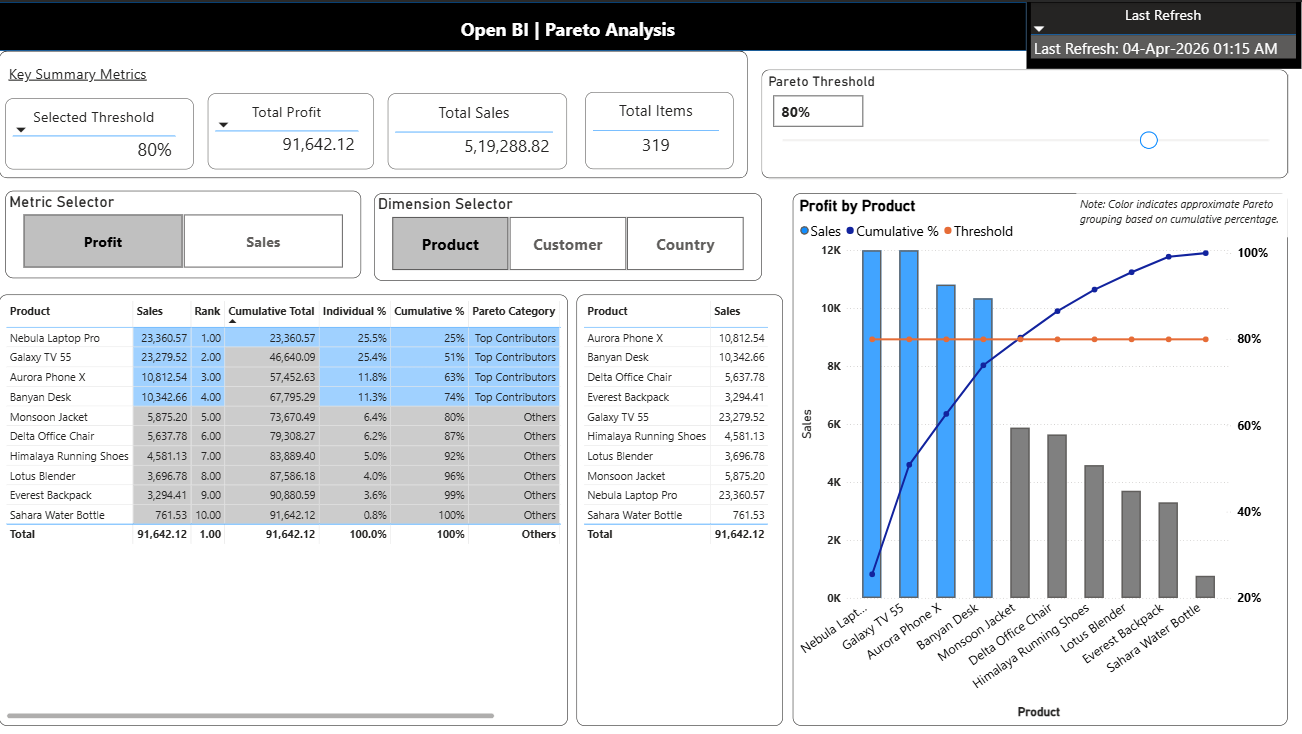

This screenshot's page, from the dashboard's own definition file:
{"tool":"powerbi","page":{"name":"Page 1","canvas":[1920,1080],"ordinal":0},"visuals":[{"type":"shape","box":[0,71.8,1102.5,187.7],"z":0},{"type":"slicer","title":"Metric Selector","fields":{"Values":["Metric Selector.Metric"]},"box":[9.5,277,523.7,129],"z":1000},{"type":"slicer","title":"Dimension Selector","fields":{"Values":["Dimension Selector.Dimension Selector"]},"box":[552.2,280.8,571.2,129],"z":2000},{"type":"tableEx","fields":{"Values":["Sales.Product","Metric Selector.Selected Metric Values"]},"box":[850.3,430.7,303.7,635],"z":3000},{"type":"slicer","title":"Pareto Threshold","fields":{"Values":["Pareto Threshold.Pareto Threshold"]},"box":[1122.7,99.4,774.9,160.1],"z":4000},{"type":"tableEx","fields":{"Values":["Sales.Product","Metric Selector.Selected Metric Values","select","select1","select2","select3","select4","Pareto Threshold.Pareto Threshold"]},"box":[0,430.7,837.4,635],"z":5000},{"type":"tableEx","fields":{"Values":["Pareto Threshold.Selected Threshold"]},"box":[9.2,141.7,277.9,104.9],"z":6000},{"type":"lineClusteredColumnComboChart","fields":{"Category":["Sales.Product"],"Y":["Metric Selector.Selected Metric Values"],"Y2":["select","Sales.Threshold Line"]},"box":[1168.7,281.6,728.8,784.1],"z":7000},{"type":"shape","box":[0,0,1512.9,71.8],"z":8000},{"type":"textbox","box":[552.2,16.6,570.6,55.2],"z":9000},{"type":"tableEx","fields":{"Values":["Sales.Last Refresh"]},"box":[1513,0,405,98.7],"z":11000},{"type":"tableEx","fields":{"Values":["Sales.Total Profit"]},"box":[307.4,134.7,244.8,112],"z":12000},{"type":"tableEx","fields":{"Values":["Sales.Total Sales"]},"box":[573.1,134.7,263.8,112],"z":13000},{"type":"tableEx","fields":{"Values":["Sales.Total Items"]},"box":[863.4,132.8,218.2,113.9],"z":14000},{"type":"textbox","box":[9.2,84.7,248.5,49.7],"z":15000},{"type":"textbox","box":[1586.5,281.6,311,64.4],"z":16001}]}

Visuals, with their boxes in screenshot pixels (x1, y1, x2, y2), scaled from the page's 1920x1080 canvas onto the 1302x734 screenshot:
shape: Rect(0, 49, 748, 176)
"Metric Selector" slicer: Rect(6, 188, 362, 276)
"Dimension Selector" slicer: Rect(374, 191, 762, 279)
tableEx - Sales.Product x Metric Selector.Selected Metric Values: Rect(577, 293, 783, 724)
"Pareto Threshold" slicer: Rect(761, 68, 1287, 176)
tableEx - Sales.Product x Metric Selector.Selected Metric Values: Rect(0, 293, 568, 724)
tableEx - Pareto Threshold.Selected Threshold: Rect(6, 96, 195, 168)
lineClusteredColumnComboChart - Sales.Product x Metric Selector.Selected Metric Values: Rect(793, 191, 1287, 724)
shape: Rect(0, 0, 1026, 49)
textbox: Rect(374, 11, 761, 49)
tableEx - Sales.Last Refresh: Rect(1026, 0, 1301, 67)
tableEx - Sales.Total Profit: Rect(208, 92, 374, 168)
tableEx - Sales.Total Sales: Rect(389, 92, 568, 168)
tableEx - Sales.Total Items: Rect(585, 90, 733, 168)
textbox: Rect(6, 58, 175, 91)
textbox: Rect(1076, 191, 1287, 235)
